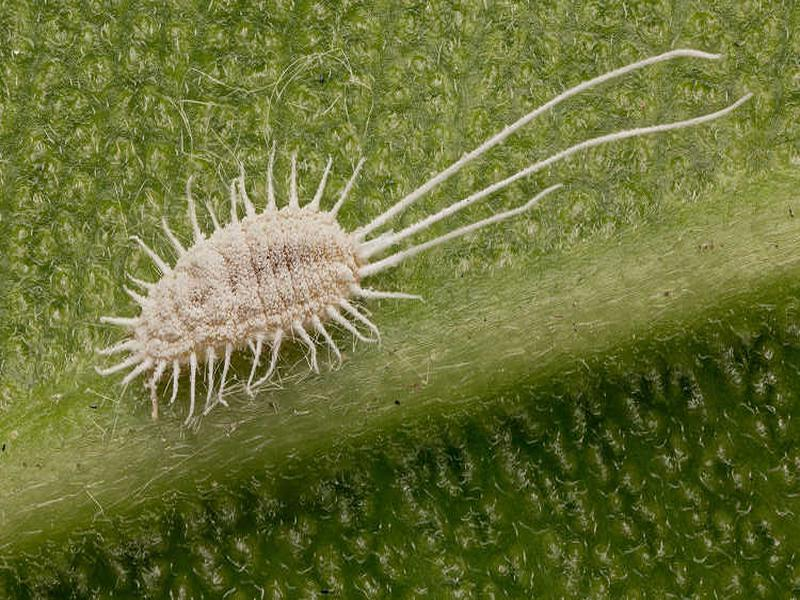Mealy_bug: (94, 166, 409, 407)
